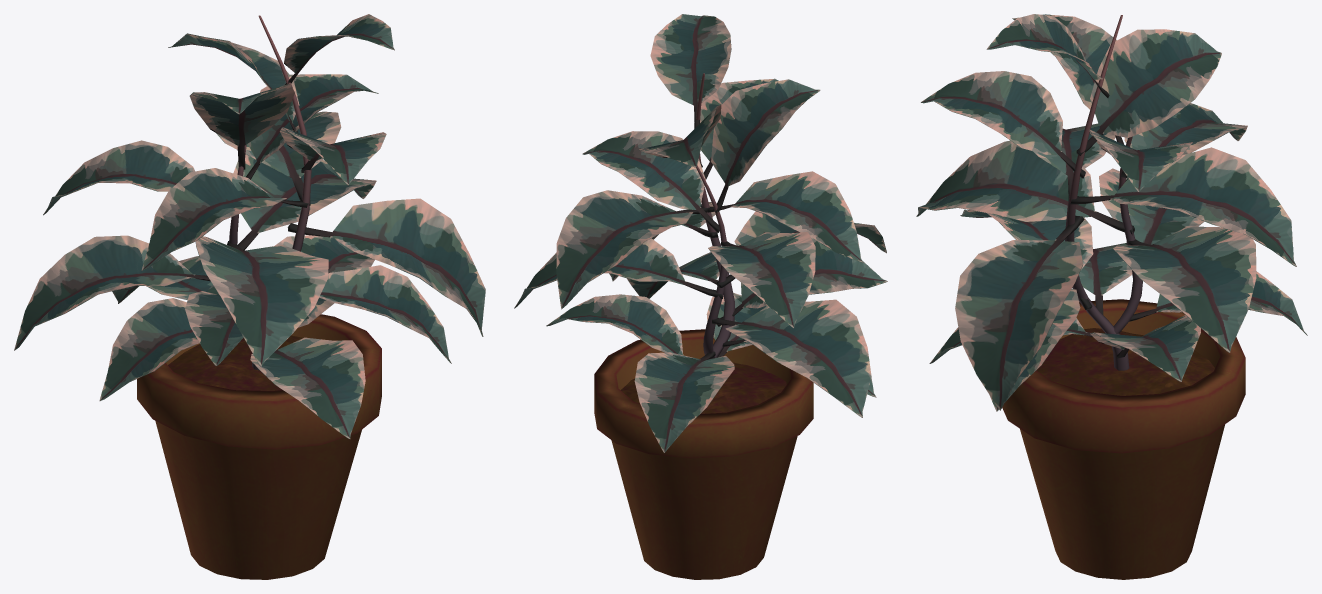
Rendered from f_Plant.fbx.
The picture shows the model from 3 angles, left to right: view 1: azimuth 30°, elevation 25°; view 2: azimuth 150°, elevation 25°; view 3: azimuth 270°, elevation 25°; orthographic projection. The views are drawn at different scales.
Parts seen in each view (by area): view 1: f_Plant; view 2: f_Plant; view 3: f_Plant.
Boxes of the visible parts, box(x1,y1,x2,y2) form: f_Plant: box(14, 14, 485, 579); f_Plant: box(514, 14, 887, 579); f_Plant: box(916, 14, 1307, 579).
Size of the model in its own units: 101 by 137 by 88.56.
